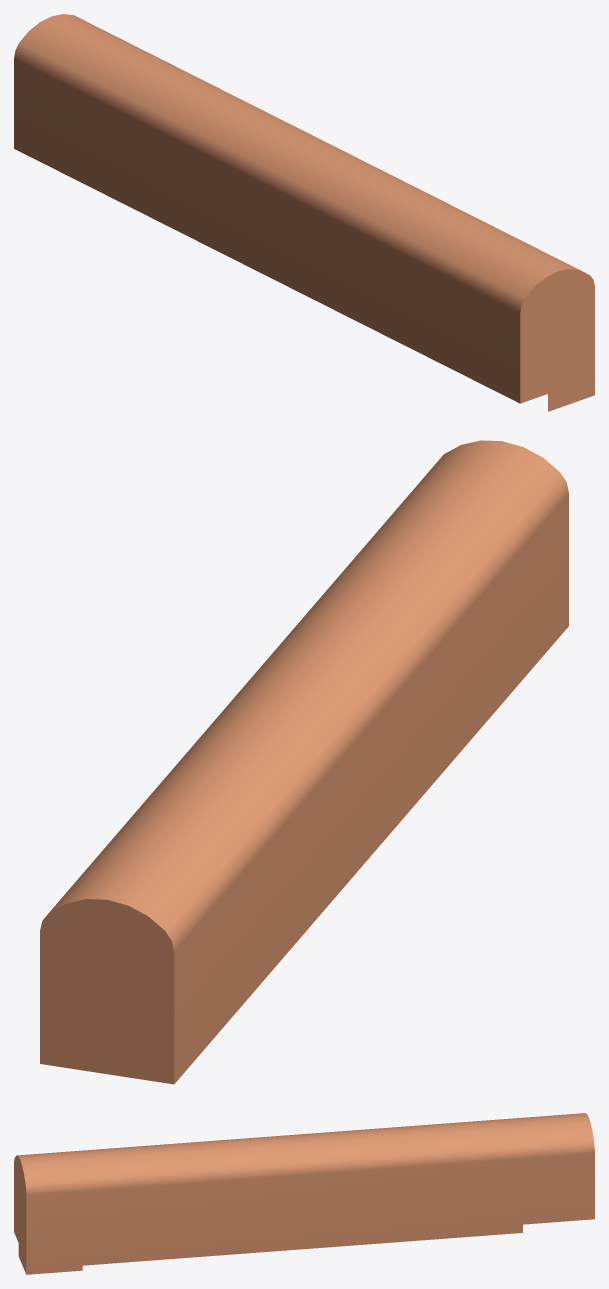
File: SJK2BD.glb
3 renders of one model, top to bottom at view 1: azimuth 30°, elevation 25°; view 2: azimuth 150°, elevation 25°; view 3: azimuth 270°, elevation 25°, orthographic. The views are drawn at different scales.
Parts seen in each view (by area): view 1: SJK2BD_SJK2WR; view 2: SJK2BD_SJK2WR; view 3: SJK2BD_SJK2WR.
Part boxes in pixels (x1=…): SJK2BD_SJK2WR: x1=14, y1=14, x2=594, y2=411; SJK2BD_SJK2WR: x1=40, y1=440, x2=568, y2=1084; SJK2BD_SJK2WR: x1=14, y1=1113, x2=594, y2=1274.
Size of the model in its own units: 46.78 by 30.39 by 159.
